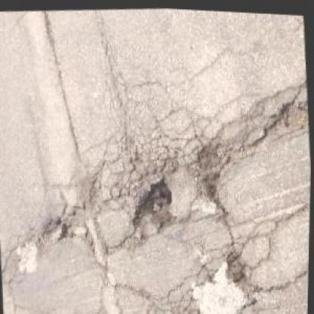Hueco: (128, 171, 180, 224), (192, 140, 225, 196), (268, 94, 308, 130), (38, 213, 78, 244), (224, 247, 254, 284)
